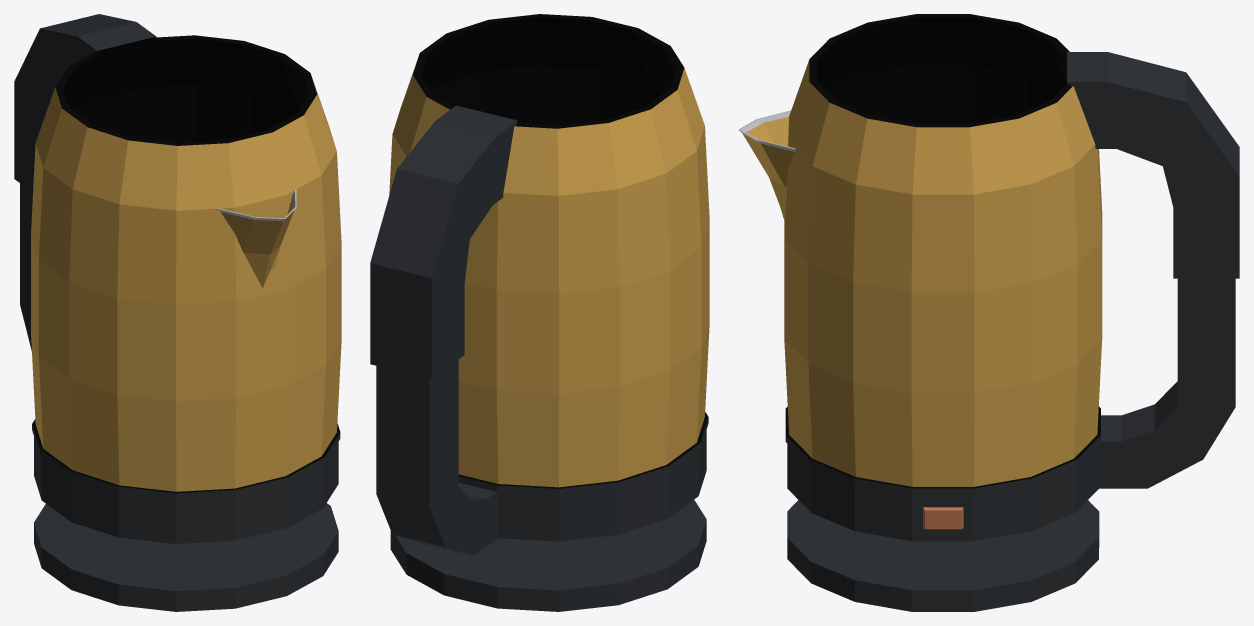
Rendered from kettle_01_D.gltf.
The picture shows the model from 3 angles, left to right: view 1: azimuth 30°, elevation 25°; view 2: azimuth 150°, elevation 25°; view 3: azimuth 270°, elevation 25°; orthographic projection. The views are drawn at different scales.
Visible parts, largest first — view 1: kettle_01_D, Electrickettle_01_D; view 2: kettle_01_D, Electrickettle_01_D; view 3: kettle_01_D, Electrickettle_01_D.
Part boxes in pixels (bbox=[...]): kettle_01_D: bbox=[14, 14, 341, 543]; Electrickettle_01_D: bbox=[34, 503, 338, 611]; kettle_01_D: bbox=[370, 14, 709, 555]; Electrickettle_01_D: bbox=[390, 500, 706, 611]; kettle_01_D: bbox=[738, 14, 1239, 541]; Electrickettle_01_D: bbox=[787, 500, 1099, 611].
Size of the model in its own units: 0.1594 by 0.2644 by 0.2503.
1 material, 1 textured.
